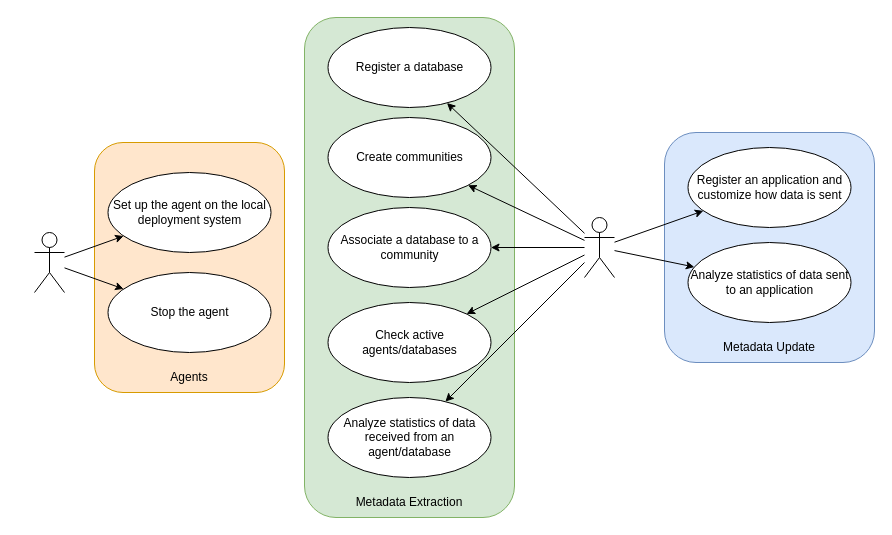
Image size: 892x535. Some labels were removed from this diagram. The centre of each missing label's shape, as x and y in pixels:
"Data Owner" goes at pixel 49 262.
"System admin" goes at pixel 599 247.
